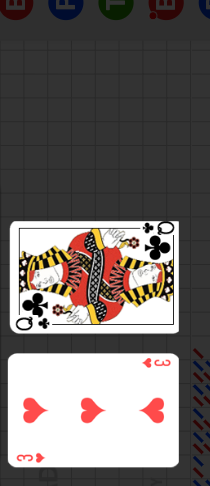3H: (140, 357, 172, 370)
QC: (132, 223, 179, 267), (12, 290, 58, 334)
